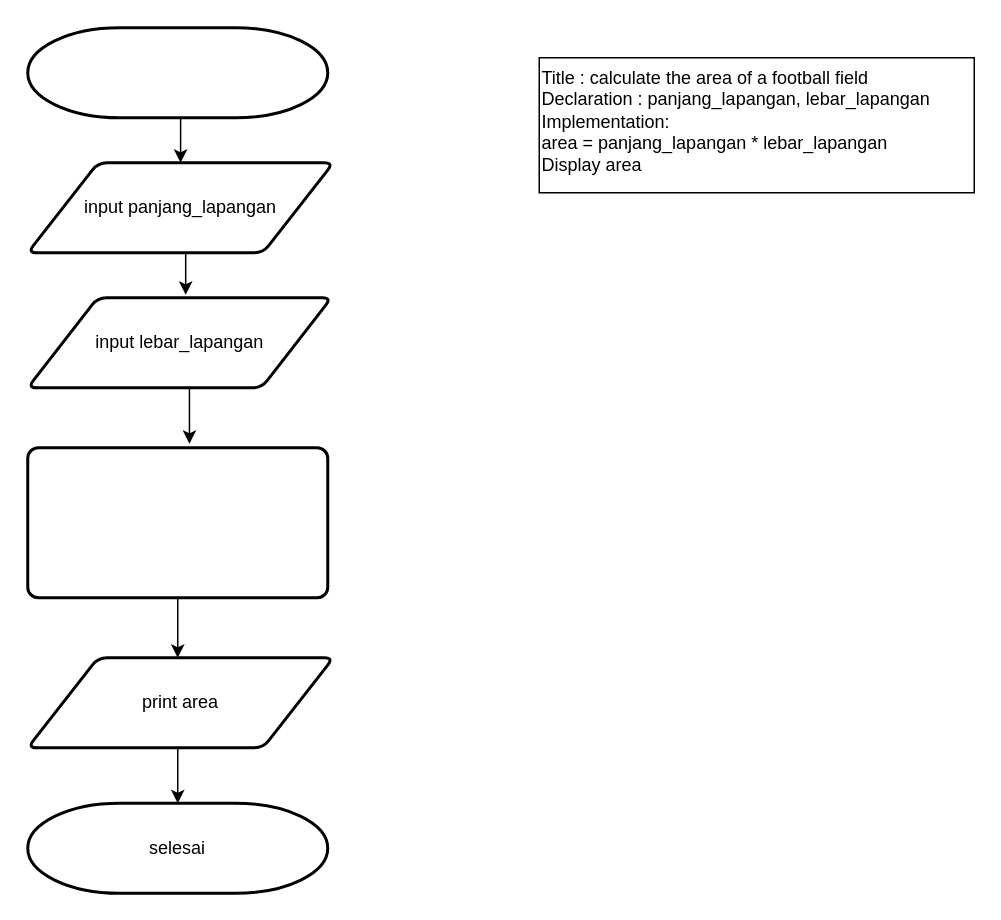
Image size: 1001x920. Some labels were removed from this diagram. The centre of each missing label's shape, as x and y in pixels:
"area = panjang_lapangan * lebar_lapangan" belongs at point 177,522.
"mulai" belongs at point 177,72.
